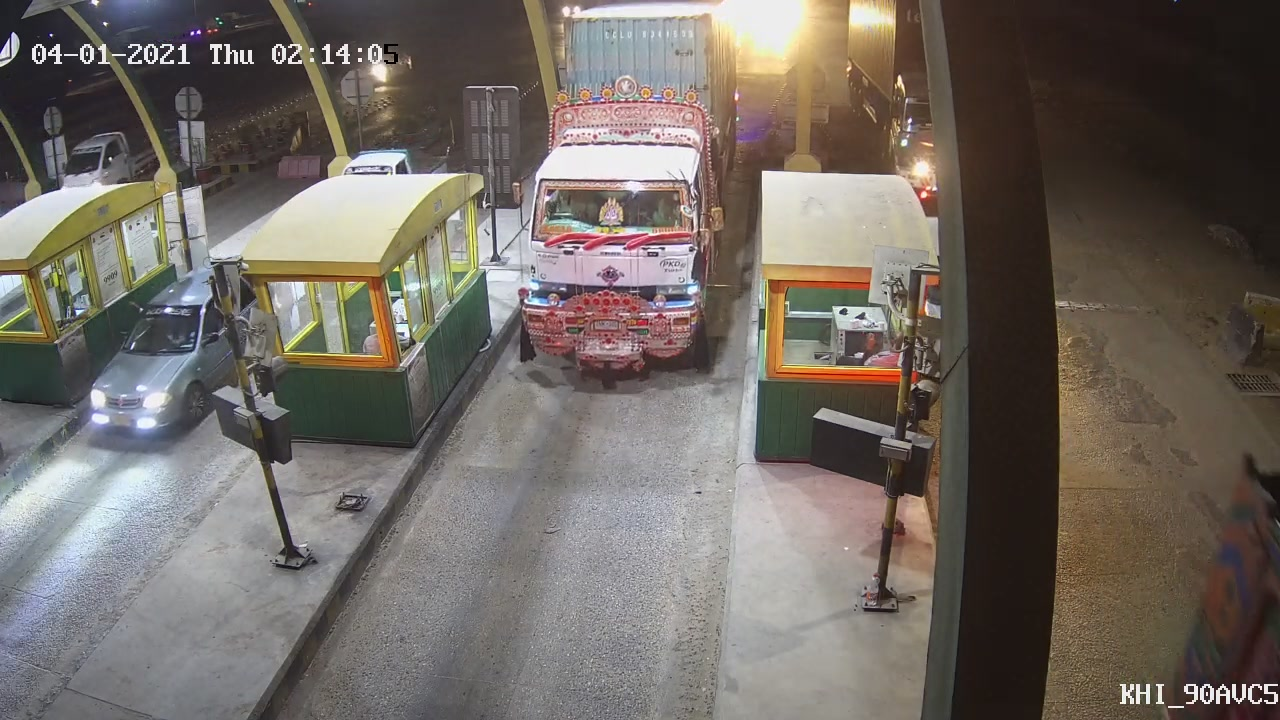F6: (497, 1, 752, 384)
